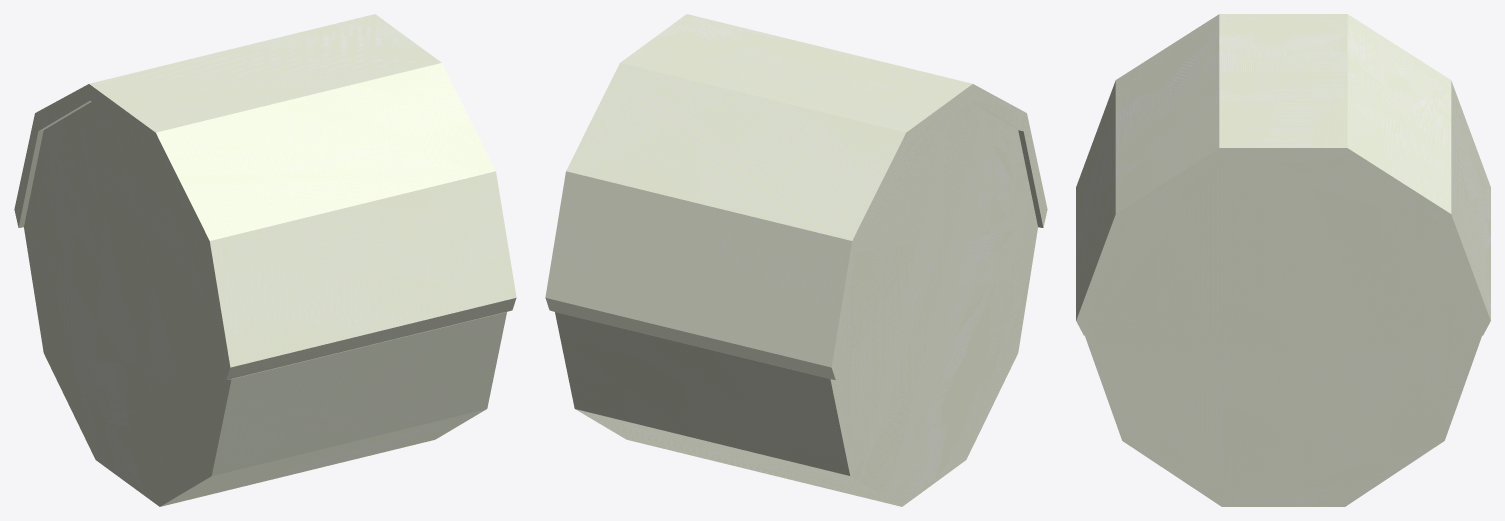
The model's file is original-13.obj.
3 views of the same model, side by side, from view 1: azimuth 30°, elevation 25°; view 2: azimuth 150°, elevation 25°; view 3: azimuth 270°, elevation 25° (orthographic). The views are drawn at different scales.
Parts seen in each view (by area): view 1: mesh13/mesh13-geometry#mesh13-geometry; view 2: mesh13/mesh13-geometry#mesh13-geometry; view 3: mesh13/mesh13-geometry#mesh13-geometry.
Boxes of the visible parts, bbox=[...] form: mesh13/mesh13-geometry#mesh13-geometry: bbox=[14, 14, 516, 506]; mesh13/mesh13-geometry#mesh13-geometry: bbox=[545, 14, 1047, 506]; mesh13/mesh13-geometry#mesh13-geometry: bbox=[1076, 14, 1490, 506].
Size of the model in its own units: 0.0777 by 0.0977 by 0.1015.
